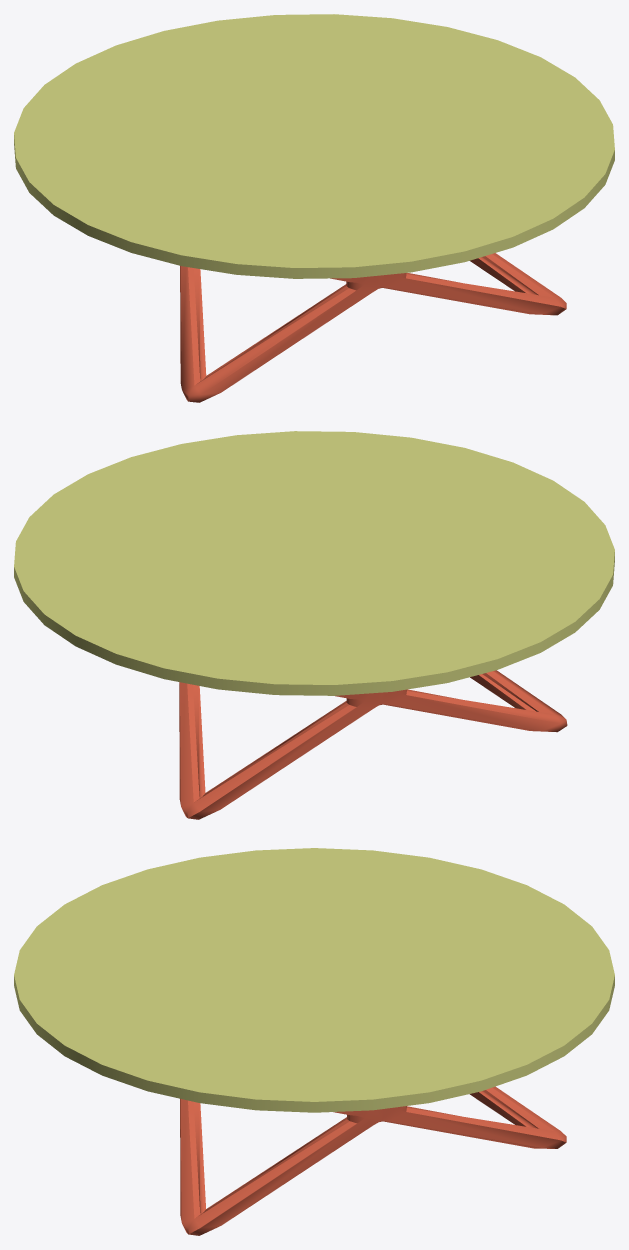
The model's file is cofee_table.fbx.
3 views of the same model, one above another, from view 1: azimuth 30°, elevation 25°; view 2: azimuth 150°, elevation 25°; view 3: azimuth 270°, elevation 25° (orthographic).
Parts seen in each view (by area): view 1: Plane.019; view 2: Plane.019; view 3: Plane.019.
Part boxes in pixels (x1,y1,x2,y2): Plane.019: (14, 14, 614, 402); Plane.019: (14, 431, 614, 819); Plane.019: (14, 848, 614, 1235).
Bounding box in the file's own units: 433 × 136 × 433.
